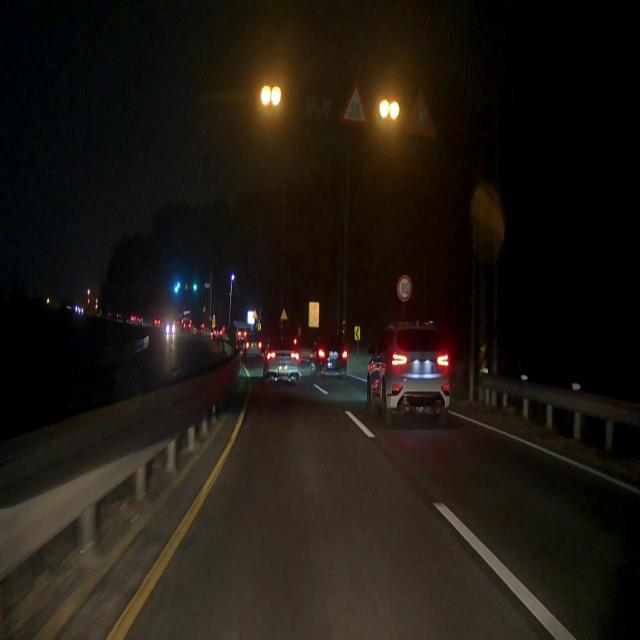Yellow Light: (260, 83, 271, 108), (378, 99, 390, 120), (272, 85, 282, 110), (390, 100, 400, 122)
